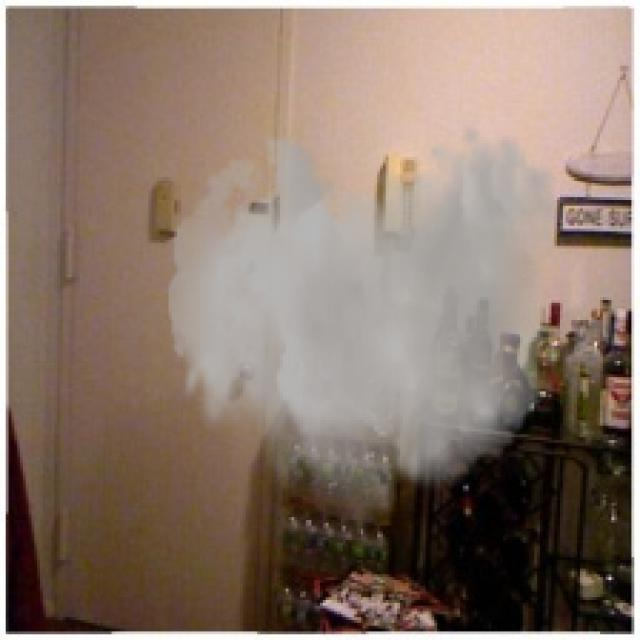smoke: (169, 123, 560, 543)
